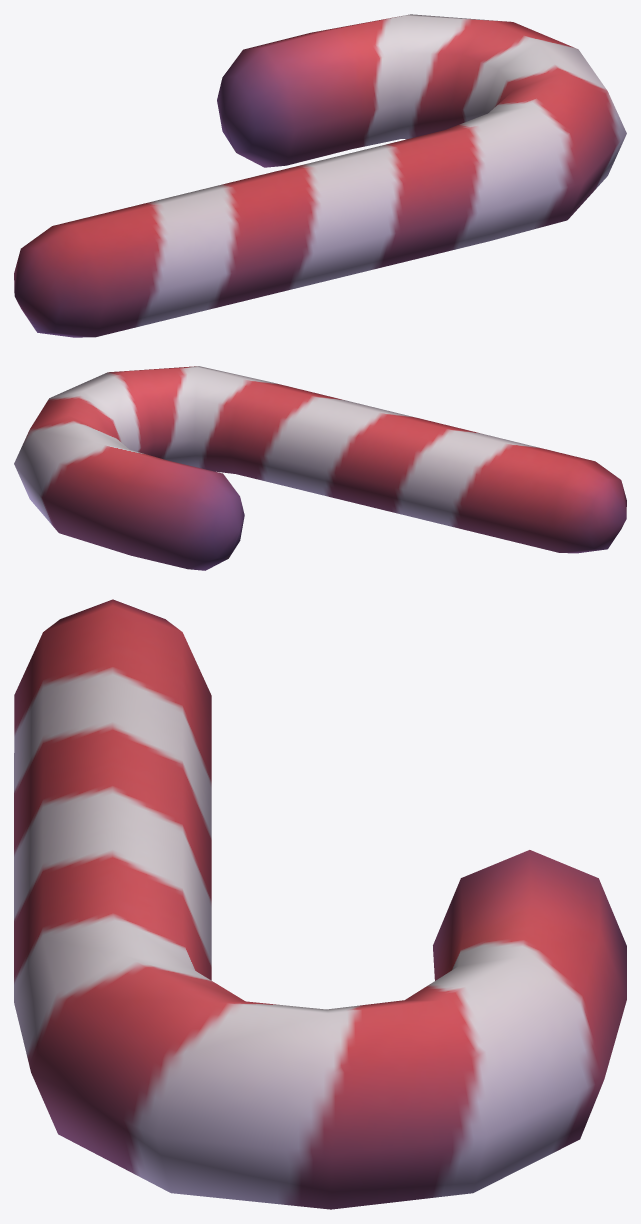
Rendered from scenes_around_candy03.FBX.
3 renders of one model, top to bottom at view 1: azimuth 30°, elevation 25°; view 2: azimuth 150°, elevation 25°; view 3: azimuth 270°, elevation 25°, orthographic. The views are drawn at different scales.
Visible parts, largest first — view 1: scenes_around_candy03; view 2: scenes_around_candy03; view 3: scenes_around_candy03.
Boxes of the visible parts, left/top/right/bottom form: scenes_around_candy03: left=14, top=14, right=626, bottom=337; scenes_around_candy03: left=14, top=366, right=626, bottom=570; scenes_around_candy03: left=14, top=599, right=626, bottom=1209.
Size of the model in its own units: 5211 by 928 by 2670.
